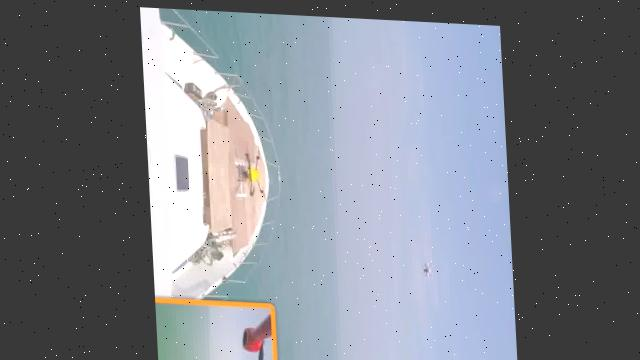drone: (228, 138, 275, 202), (415, 246, 441, 282)
